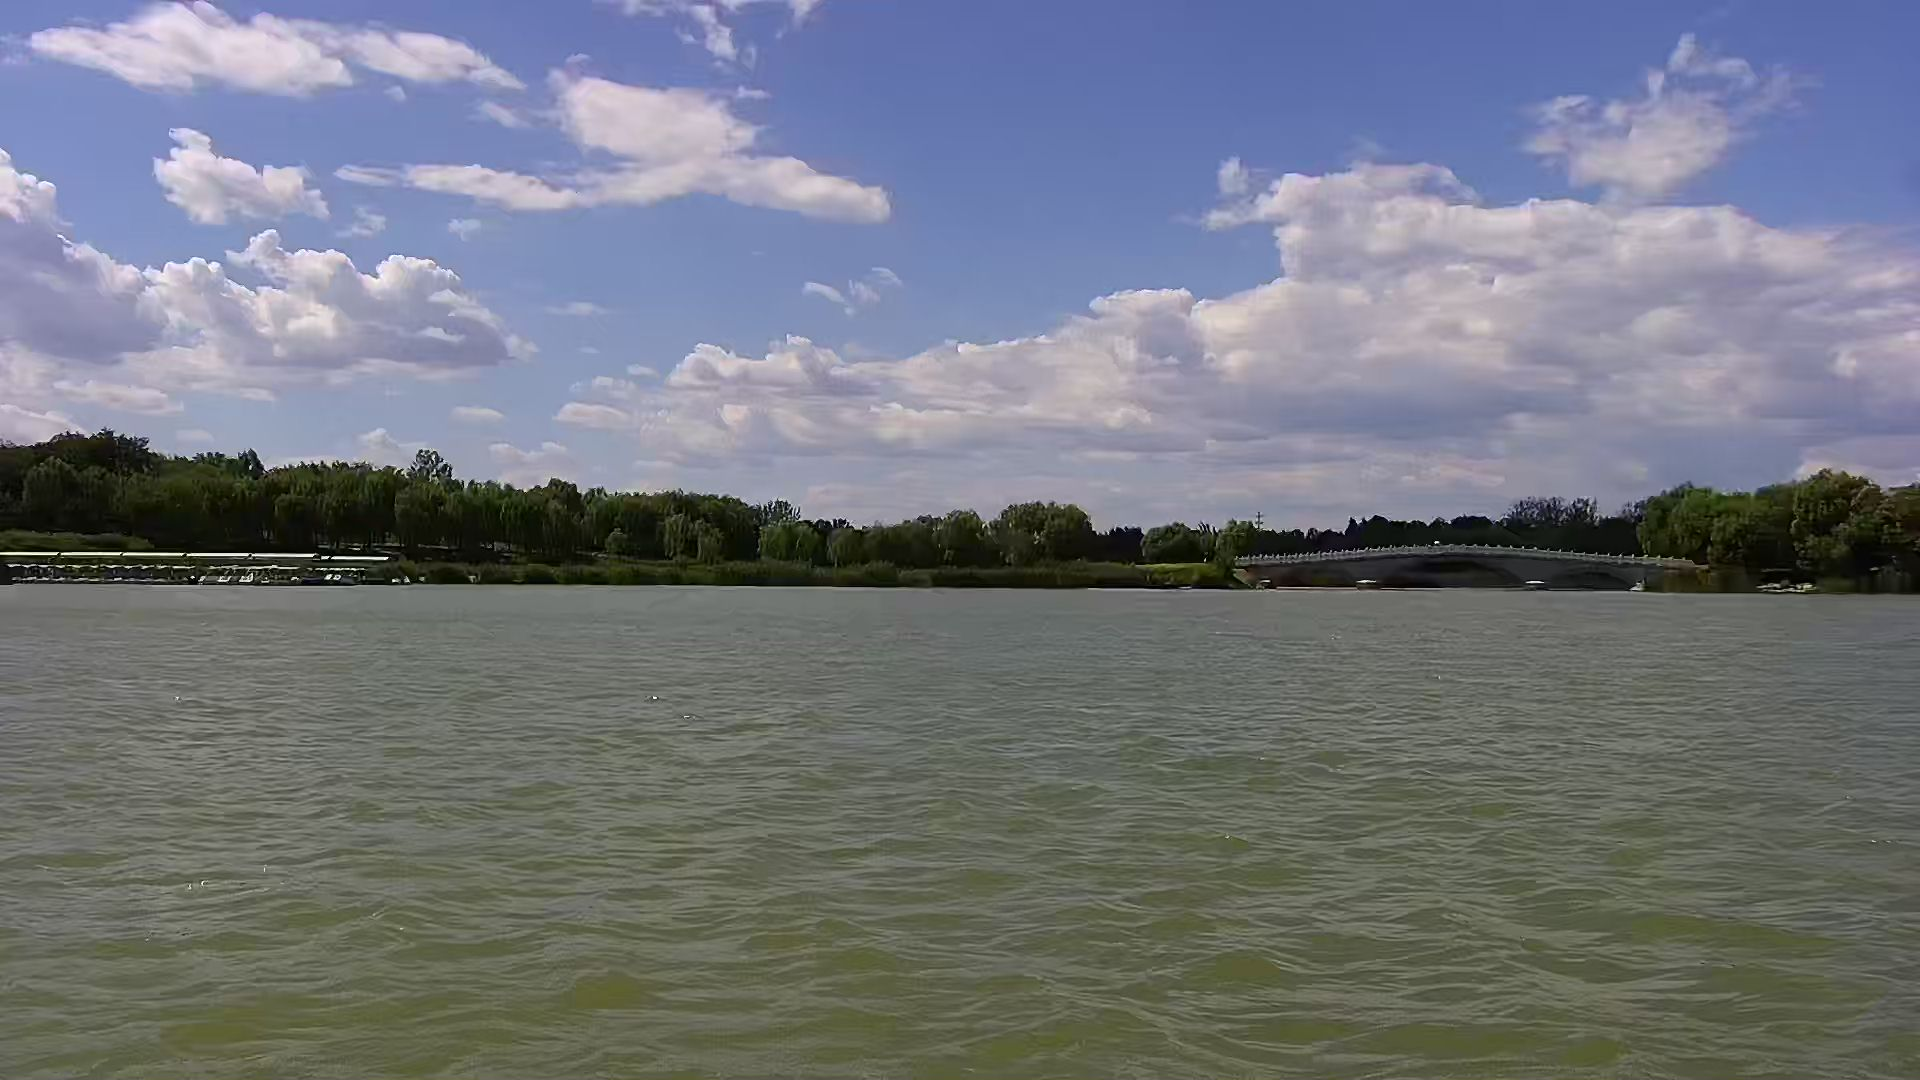bridge: (1236, 543, 1702, 593)
harbor: (1, 546, 393, 592)
